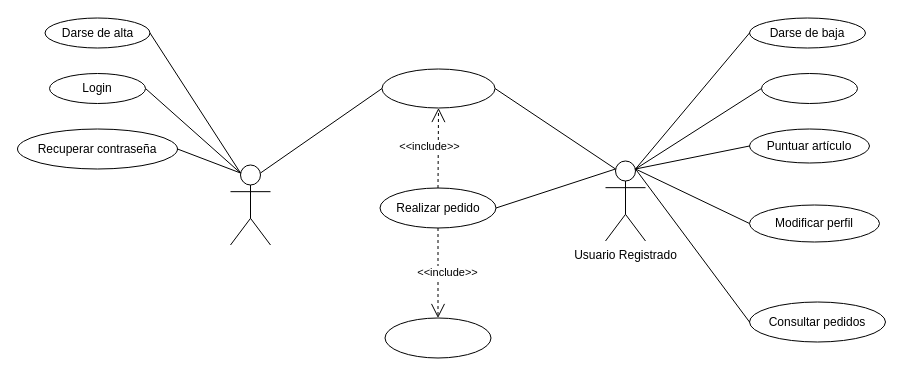
The diagram is 903 pixels wide and 375 high, and some of its shapes have lost their labels. Here are the shapes that lost their labels. From the top down, the centre of each, then its label:
At [438,88]: "Buscar producto".
At [809,88]: "Logout".
At [250,204]: "Usuario Anónimo".
At [437,337]: "Realizar pago".
